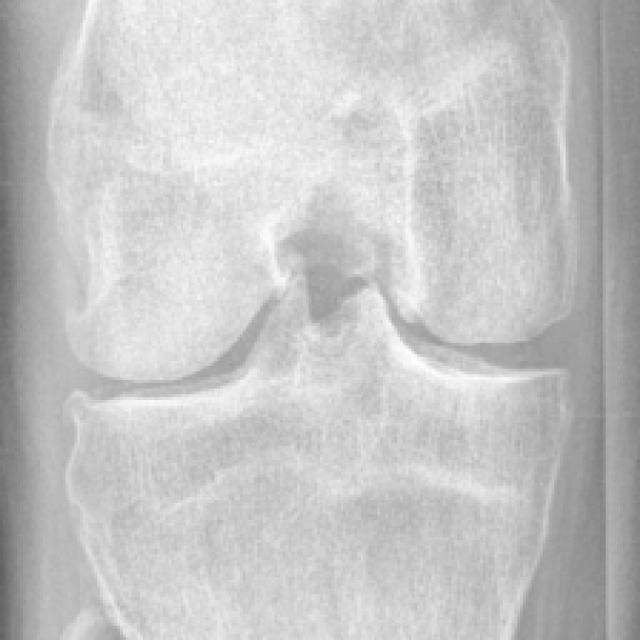femur: (43, 0, 578, 380)
tibia: (62, 280, 573, 640)
